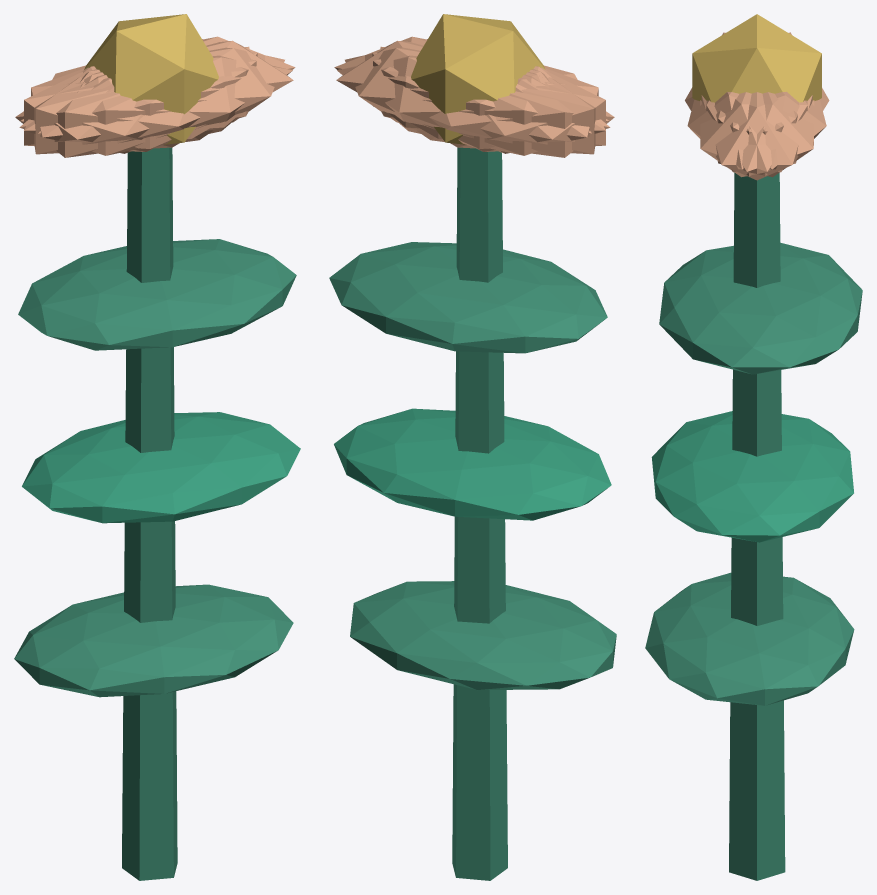
The model's file is dracaena-reflexa.glb.
3 renders of one model, left to right at view 1: azimuth 30°, elevation 25°; view 2: azimuth 150°, elevation 25°; view 3: azimuth 270°, elevation 25°, orthographic.
Visible parts, largest first — view 1: stem, leaf0, leaf1, leaf2, center, petal1, petal6, petal2, petal5, petal7, petal0, petal4 (+2 smaller); view 2: stem, leaf2, leaf1, leaf0, center, petal8, petal3, petal7, petal4, petal2, petal0, petal5 (+2 smaller); view 3: stem, leaf2, leaf1, leaf0, center, petal0, petal5, petal4, petal1, petal8.
Boxes of the visible parts, x1=… form: stem: x1=122, y1=147, x2=177, y2=880; leaf0: x1=14, y1=584, x2=293, y2=697; leaf1: x1=22, y1=412, x2=300, y2=523; leaf2: x1=18, y1=239, x2=296, y2=350; center: x1=84, y1=14, x2=218, y2=144; petal1: x1=19, y1=55, x2=292, y2=155; petal6: x1=15, y1=67, x2=212, y2=157; petal2: x1=34, y1=46, x2=249, y2=154; petal5: x1=38, y1=47, x2=284, y2=148; petal7: x1=24, y1=52, x2=257, y2=151; petal0: x1=84, y1=40, x2=293, y2=139; petal4: x1=21, y1=36, x2=295, y2=130; stem: x1=452, y1=147, x2=507, y2=880; leaf2: x1=329, y1=242, x2=607, y2=353; leaf1: x1=334, y1=408, x2=611, y2=520; leaf0: x1=350, y1=581, x2=616, y2=690; center: x1=411, y1=14, x2=545, y2=144; petal8: x1=337, y1=55, x2=610, y2=155; petal3: x1=417, y1=67, x2=614, y2=157; petal7: x1=380, y1=46, x2=595, y2=154; petal4: x1=345, y1=47, x2=591, y2=148; petal2: x1=372, y1=52, x2=605, y2=151; petal0: x1=336, y1=40, x2=545, y2=139; petal5: x1=334, y1=36, x2=608, y2=130; stem: x1=729, y1=172, x2=785, y2=880; leaf2: x1=659, y1=242, x2=862, y2=374; leaf1: x1=651, y1=411, x2=853, y2=542; leaf0: x1=645, y1=572, x2=854, y2=705; center: x1=692, y1=14, x2=821, y2=102; petal0: x1=701, y1=92, x2=812, y2=180; petal5: x1=700, y1=92, x2=807, y2=177; petal4: x1=706, y1=92, x2=814, y2=177; petal1: x1=687, y1=92, x2=797, y2=169; petal8: x1=716, y1=91, x2=826, y2=169.
Size of the model in its own units: 0.1452 by 0.4367 by 0.1028.
